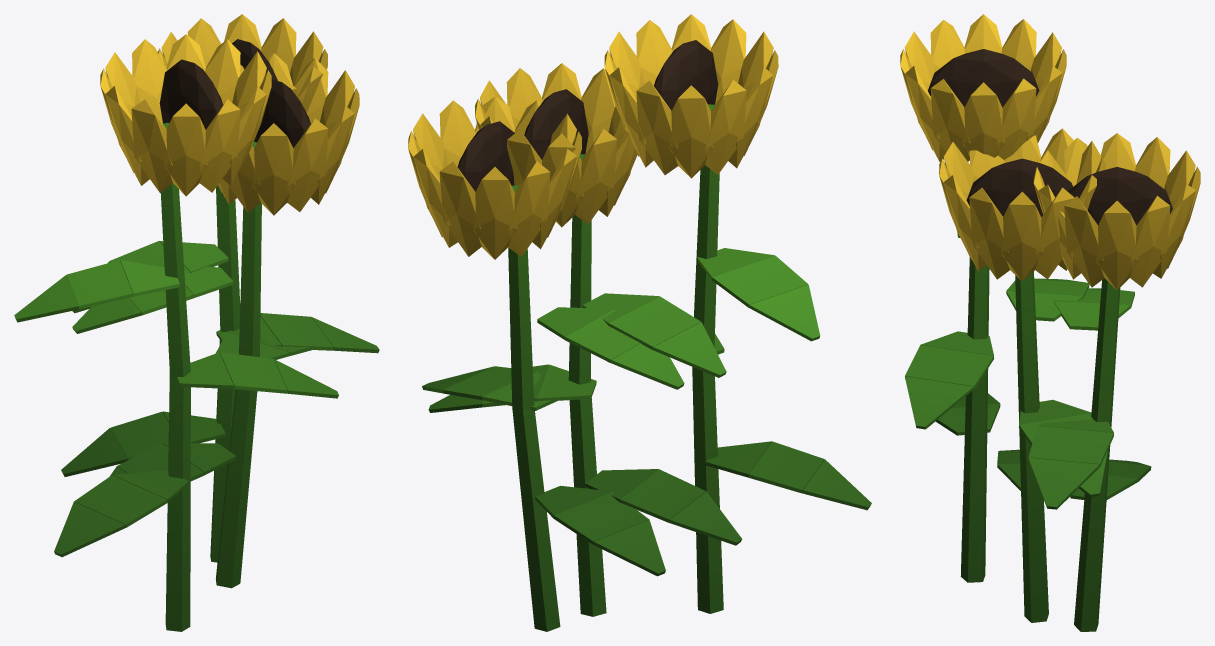
The model's file is flower_sunflower_01.glb.
3 renders of one model, left to right at view 1: azimuth 30°, elevation 25°; view 2: azimuth 150°, elevation 25°; view 3: azimuth 270°, elevation 25°, orthographic. The views are drawn at different scales.
Visible parts, largest first — view 1: flower_sunflower_01_LOD0; view 2: flower_sunflower_01_LOD0; view 3: flower_sunflower_01_LOD0.
Part boxes in pixels (box(x1,y1,x2,y2)): flower_sunflower_01_LOD0: box(14, 14, 379, 631); flower_sunflower_01_LOD0: box(408, 14, 871, 631); flower_sunflower_01_LOD0: box(900, 14, 1200, 631).
Size of the model in its own units: 0.9178 by 1.28 by 0.643.
Materials: 1 (1 with a texture image).
